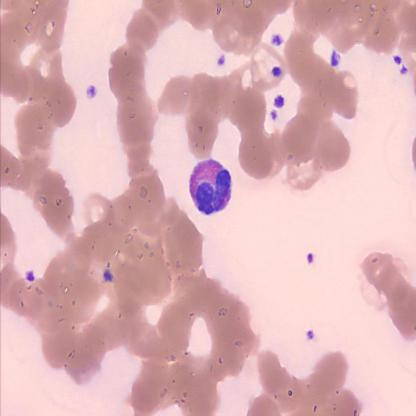Eosinophil: (189, 156, 236, 214)
